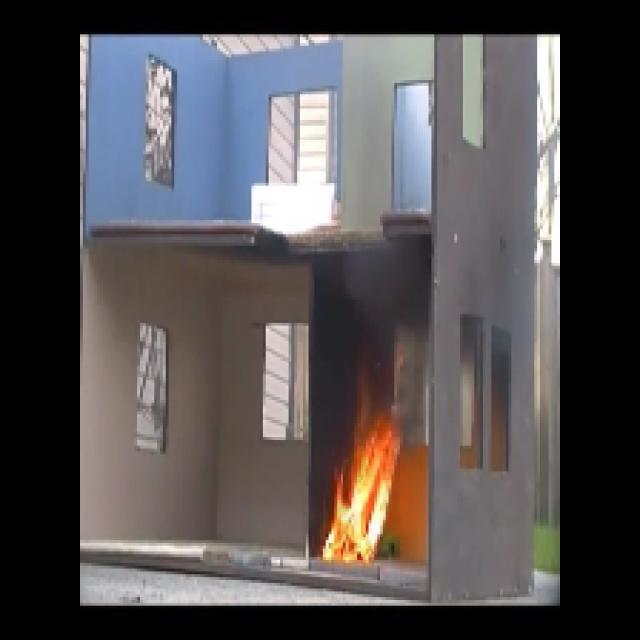Fire: (331, 422, 404, 558)
Smoke: (316, 255, 379, 400)
